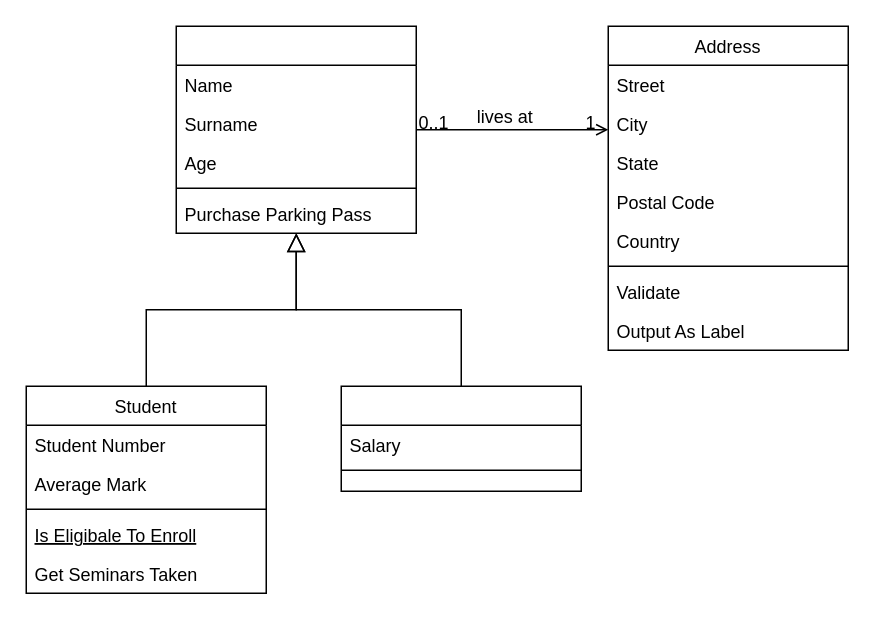
Image size: 875x624. Some labels were removed from this diagram. The box of each missing label's shape, as (x1, y1, x2, y2) in pixels:
Person: (175, 25, 416, 233)
Professor: (340, 385, 581, 491)
